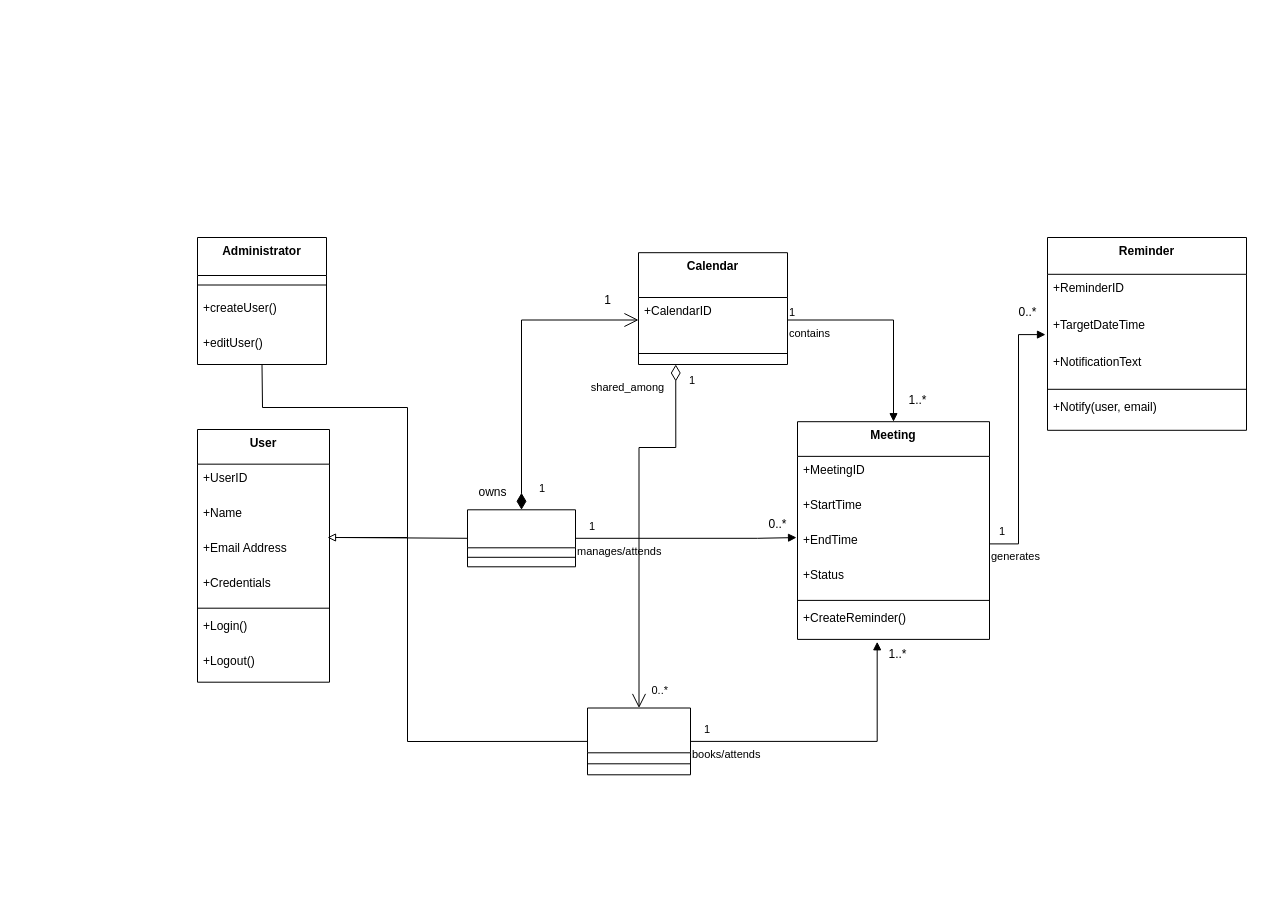
The diagram is 1264 pixels wide and 924 high, and some of its shapes have lost their labels. The centre of each missing label's shape, as x and y in pixels:
Student: point 638,741
Supervisor: point 521,538
